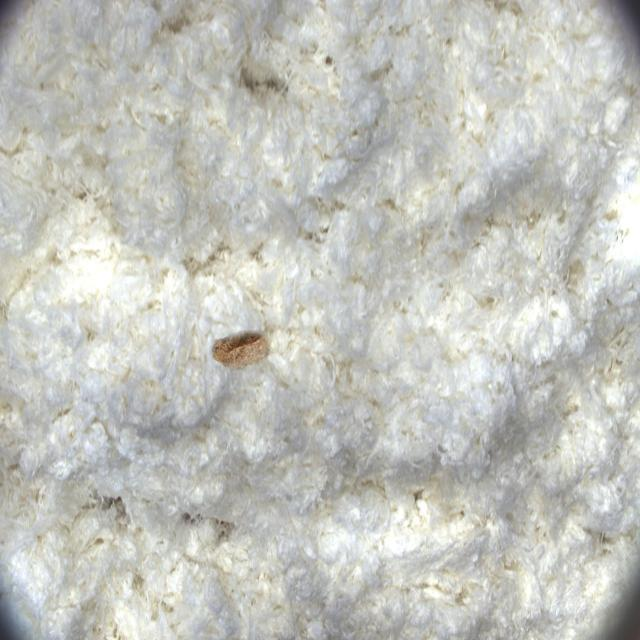dust: (186, 295, 287, 406)
